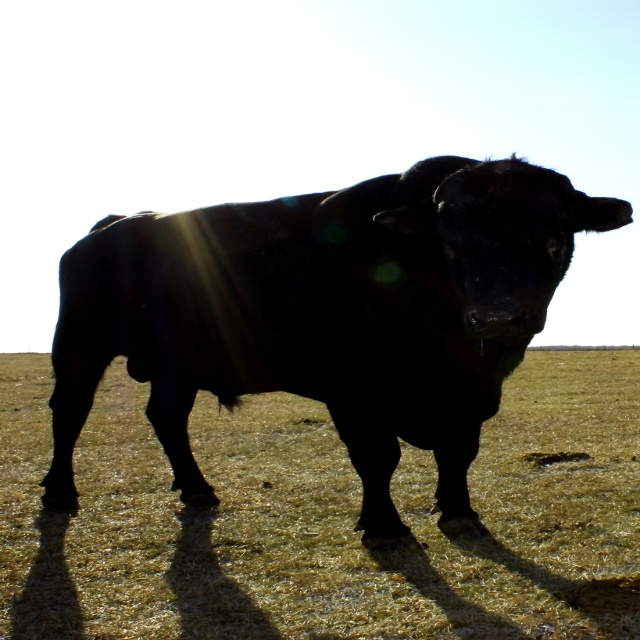Bull: (39, 152, 632, 541)
